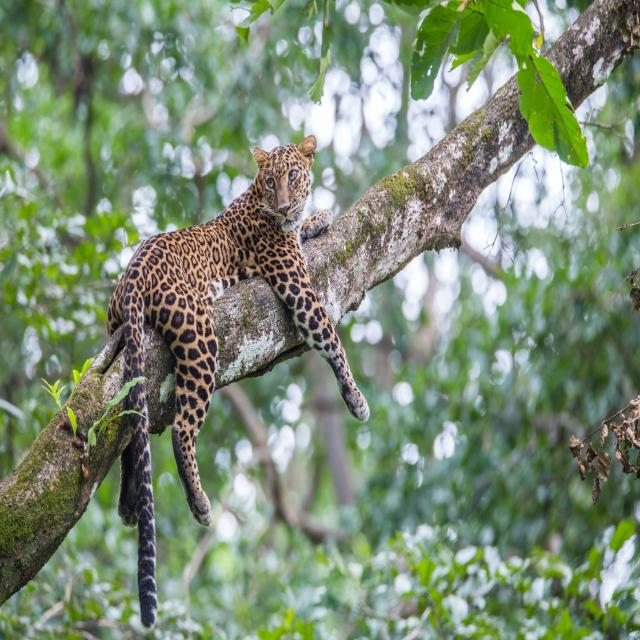Leopard: (109, 135, 372, 620)
